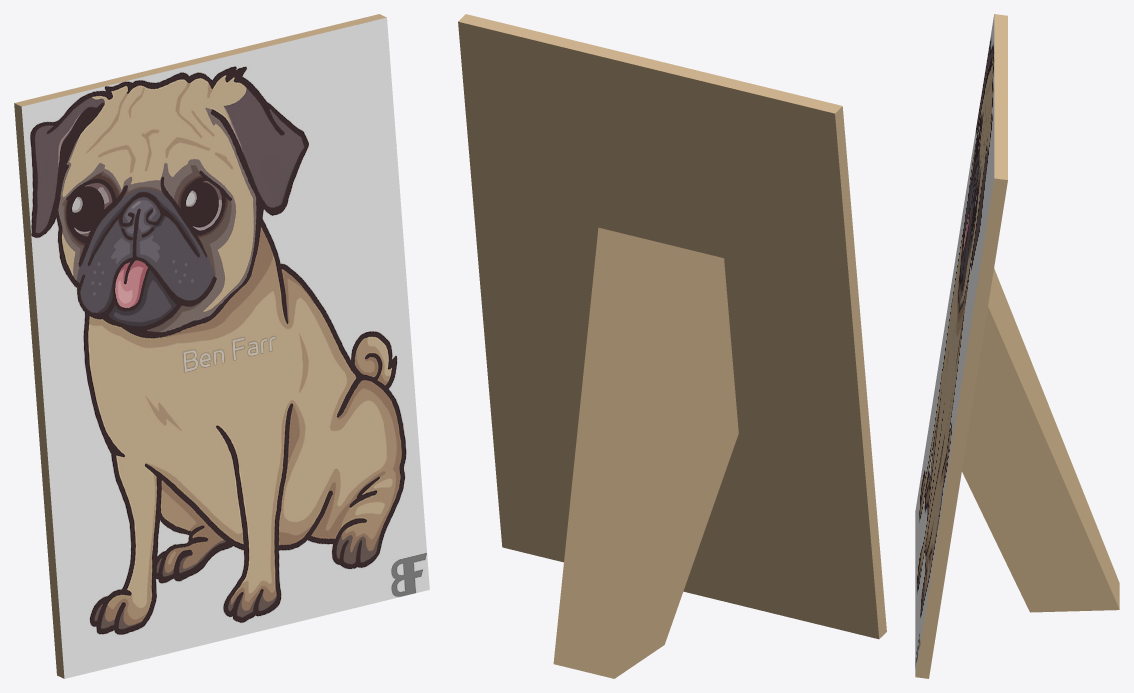
Rendered from pug_sign.fbx.
3 views of the same model, side by side, from view 1: azimuth 30°, elevation 25°; view 2: azimuth 150°, elevation 25°; view 3: azimuth 270°, elevation 25° (orthographic). The views are drawn at different scales.
Visible parts, largest first — view 1: board:pPlane1; view 2: board:pPlane1; view 3: board:pPlane1.
Boxes of the visible parts, x1,y1,x2,y2 form: board:pPlane1: (14,14,429,678); board:pPlane1: (458,14,886,678); board:pPlane1: (915,14,1119,678).
Bounding box in the file's own units: 9.89 × 14.11 × 5.2.
2 materials, 1 textured.
